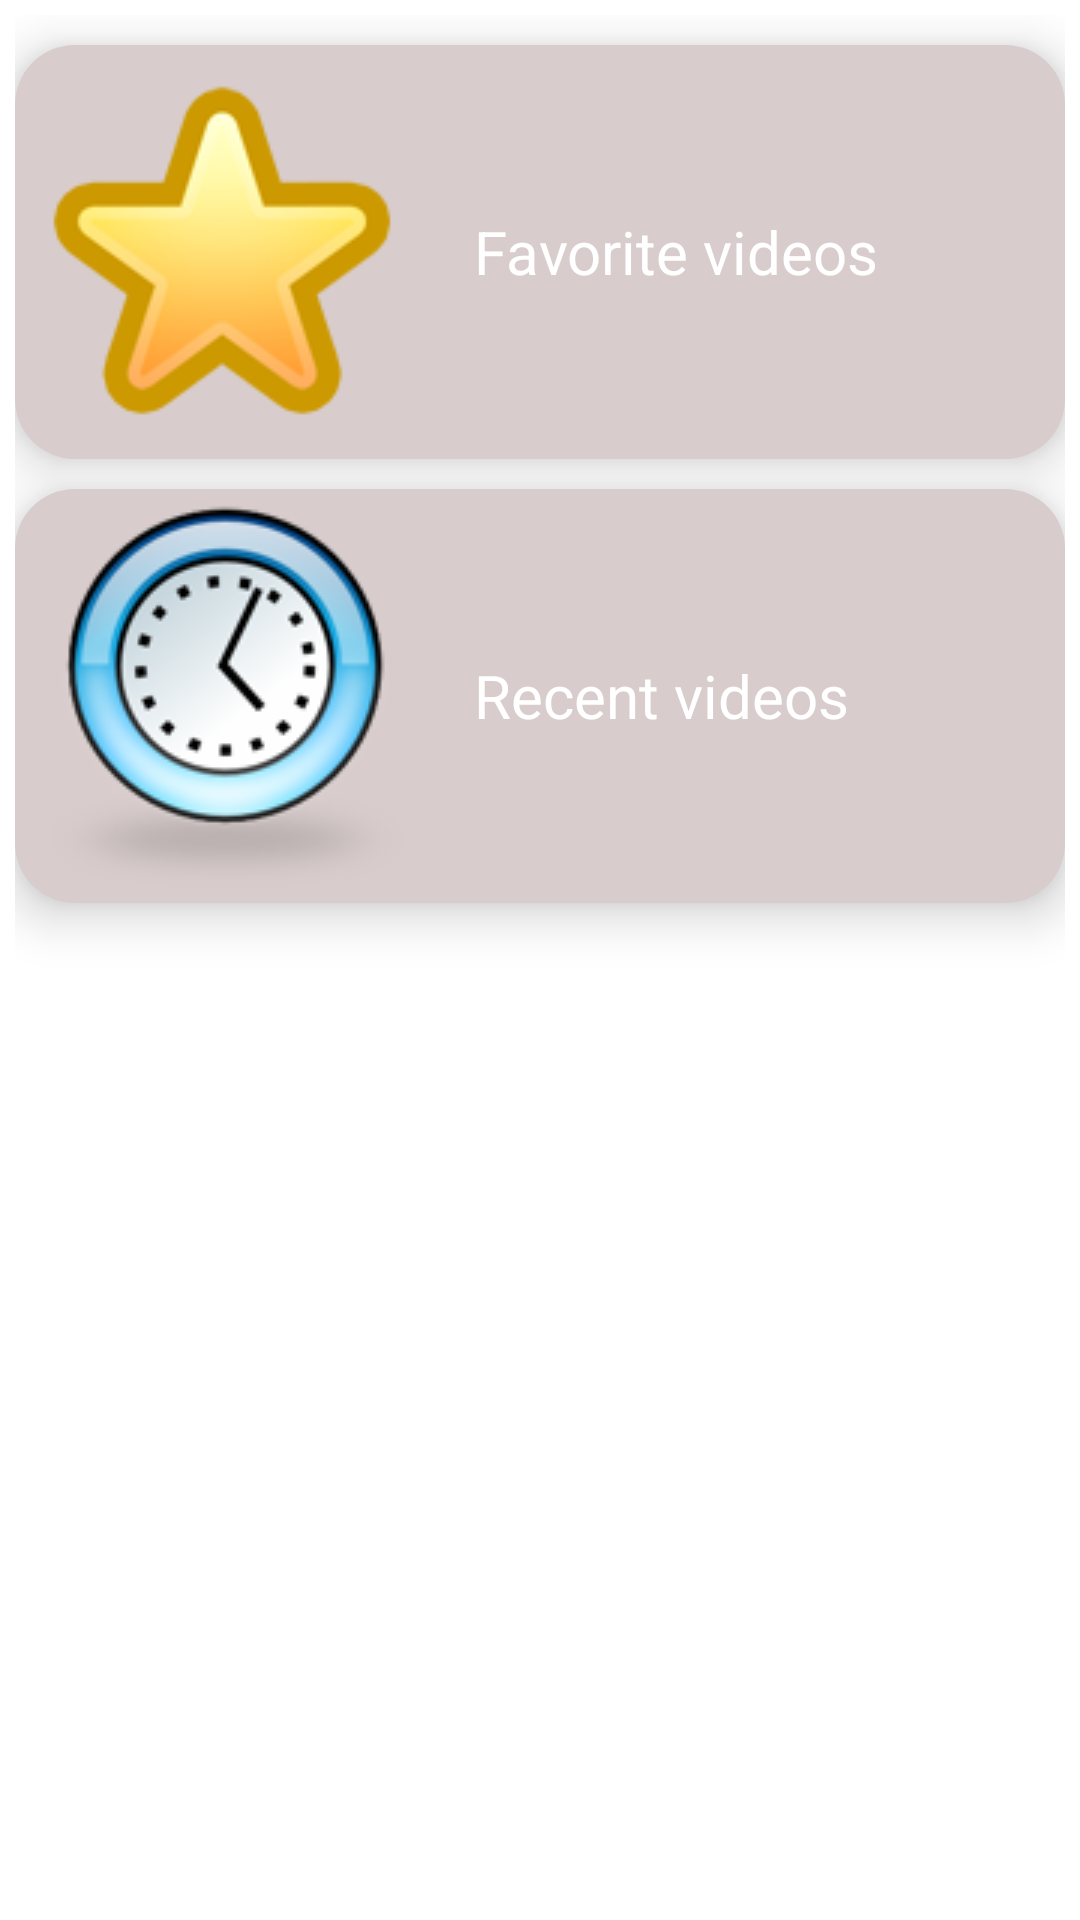

Point at icon controls on the screen. Image size 1080x1920, points as [x,y].
recents: [225,679]
